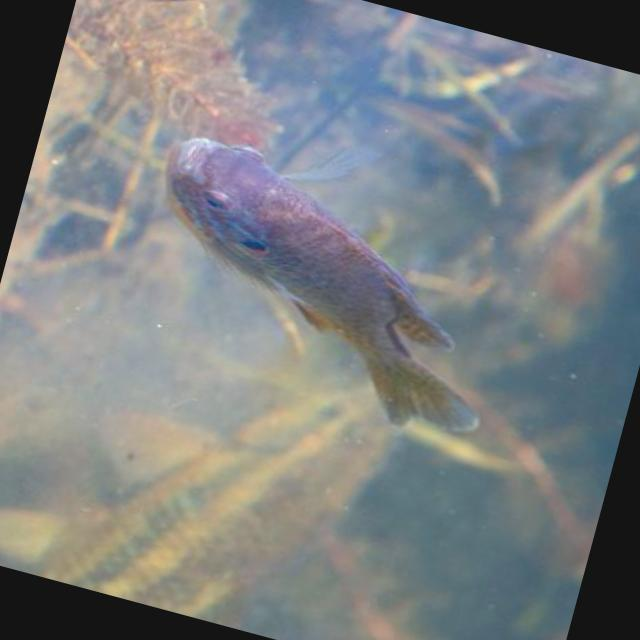Gunes Levregi: (104, 119, 538, 452)
